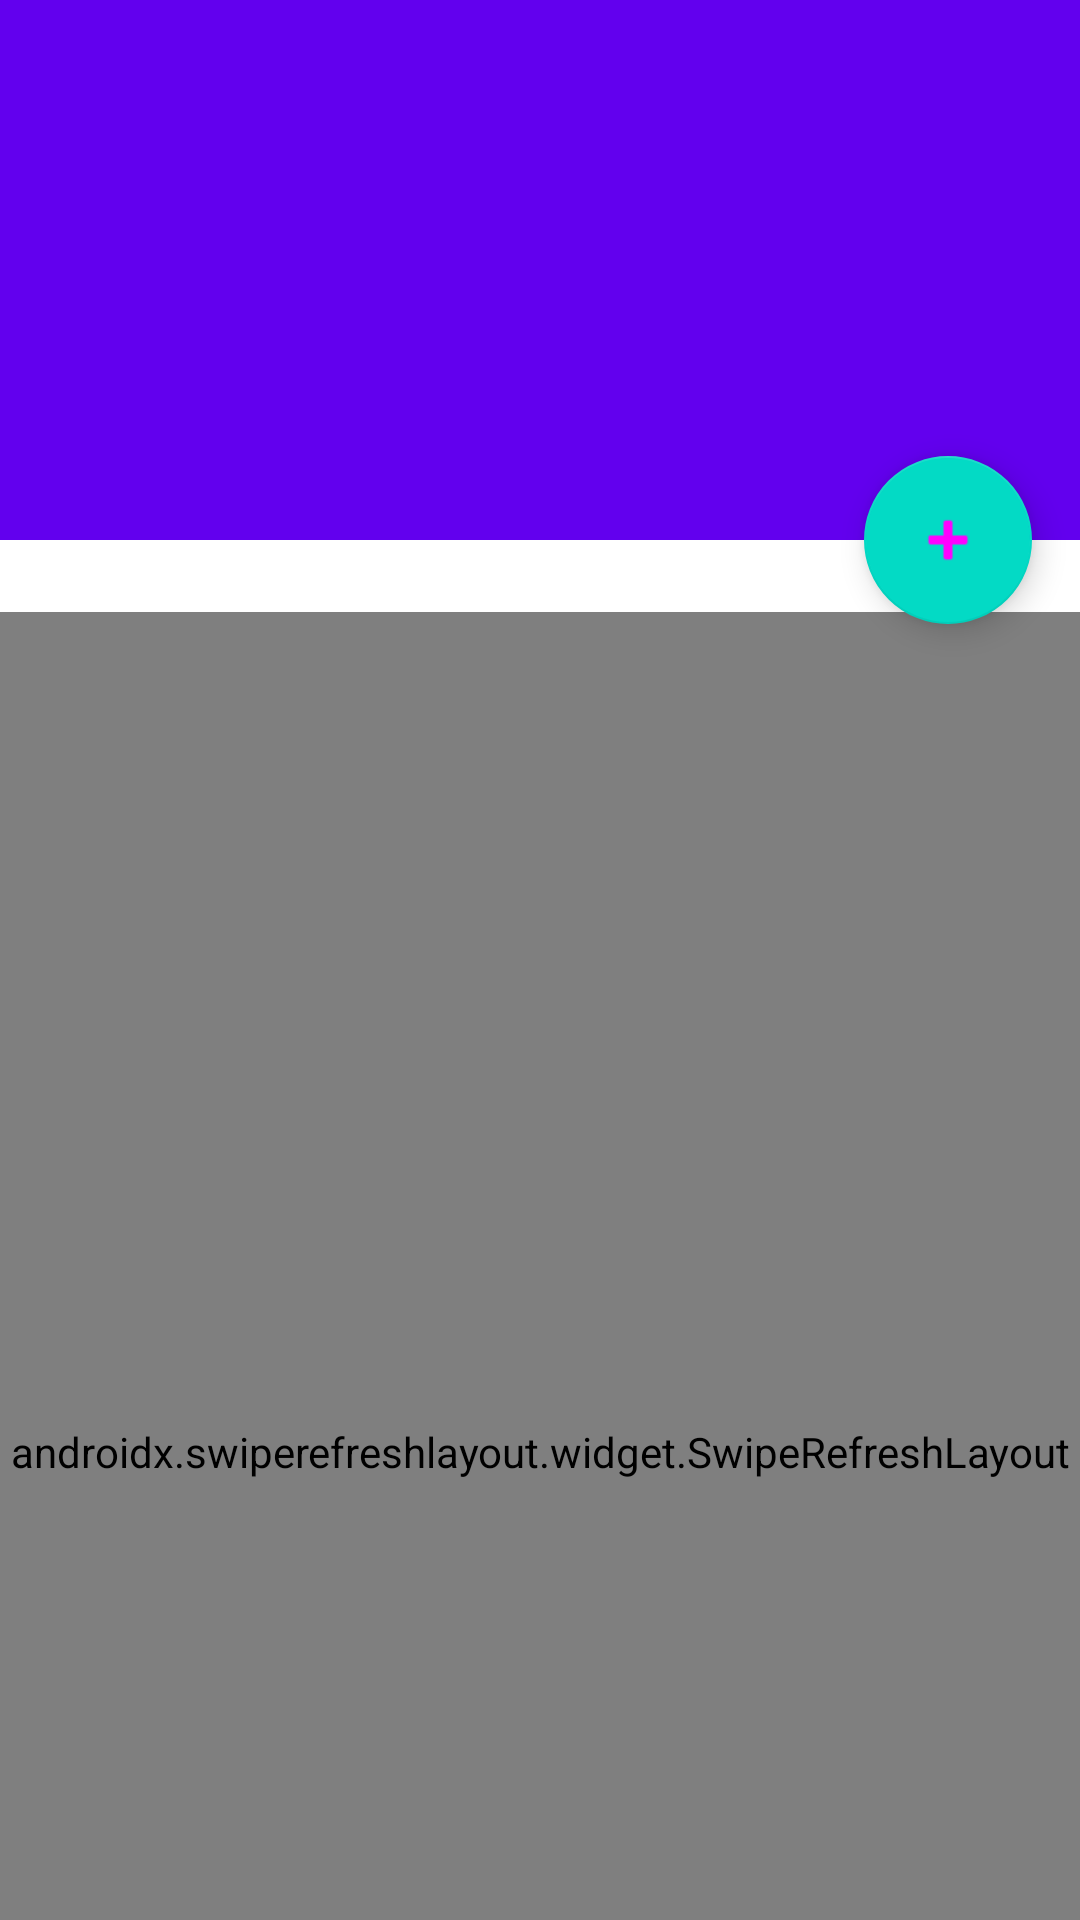

Screen size 1080*1920. Icon name, then its center in pixels as (x,y):
add: (948,540)
